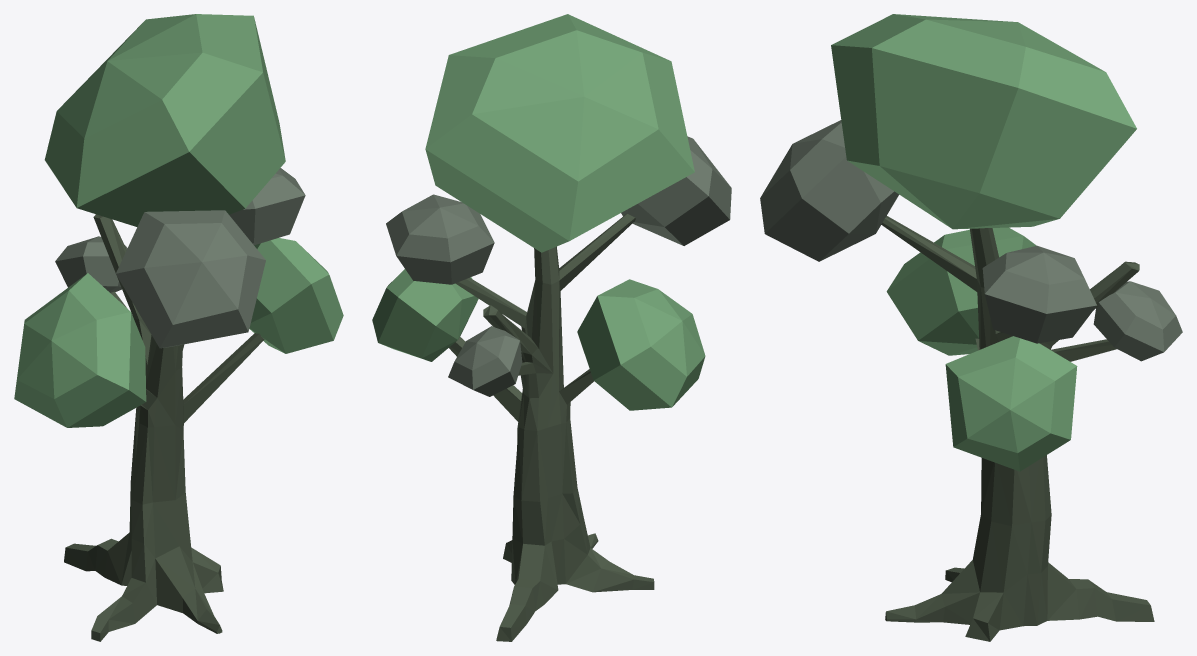
Rendered from tree1.fbx.
3 renders of one model, left to right at view 1: azimuth 30°, elevation 25°; view 2: azimuth 150°, elevation 25°; view 3: azimuth 270°, elevation 25°, orthographic. The views are drawn at different scales.
Visible parts, largest first — view 1: polySurface3; view 2: polySurface3; view 3: polySurface3.
Part boxes in pixels (x1,y1,x2,y2): polySurface3: (14, 14, 343, 641); polySurface3: (372, 14, 731, 641); polySurface3: (760, 14, 1182, 641).
Size of the model in its own units: 400 by 691 by 432.
